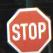Stop sign: (0, 0, 52, 52)
